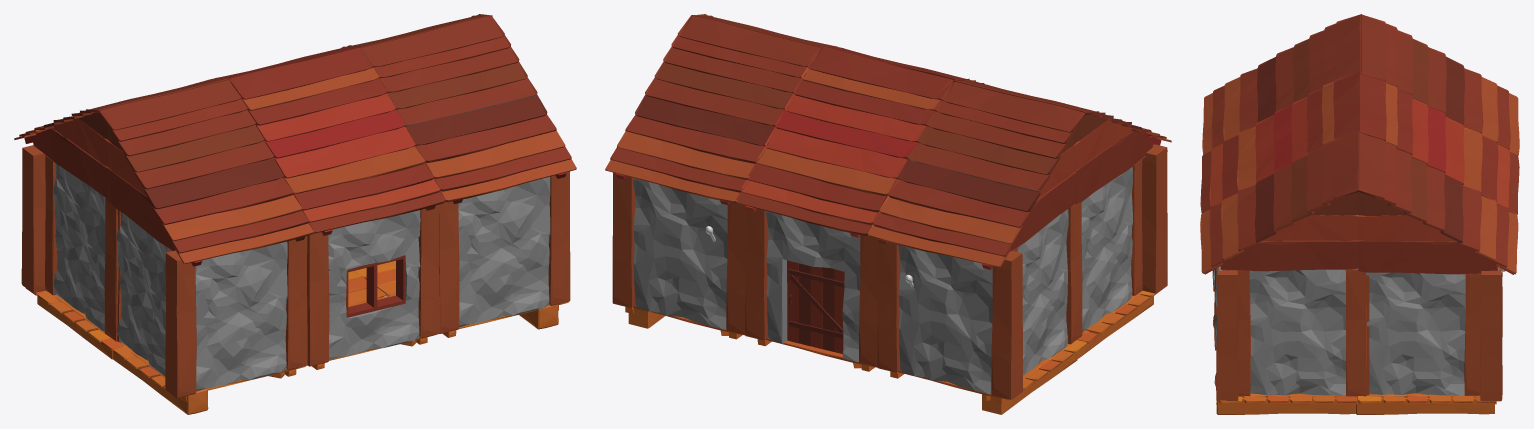
Rendered from House.fbx.
3 views of the same model, side by side, from view 1: azimuth 30°, elevation 25°; view 2: azimuth 150°, elevation 25°; view 3: azimuth 270°, elevation 25° (orthographic). The views are drawn at different scales.
Visible parts, largest first — view 1: House; view 2: House, Door; view 3: House.
Part boxes in pixels (left/top/right/bottom): House: left=14, top=14, right=576, bottom=414; House: left=605, top=14, right=1171, bottom=414; Door: left=787, top=260, right=844, bottom=353; House: left=1200, top=14, right=1519, bottom=414.
Size of the model in its own units: 902 by 550 by 688.
